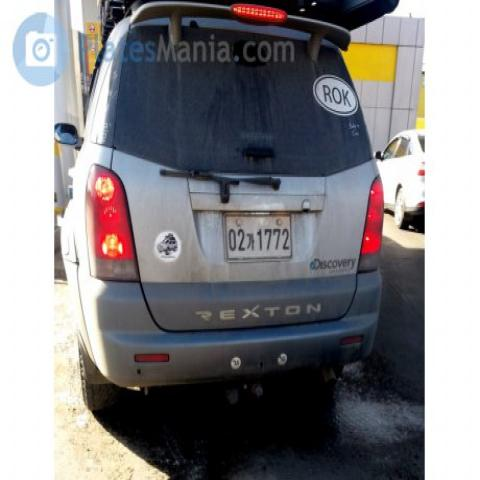LP: (215, 201, 308, 276)
